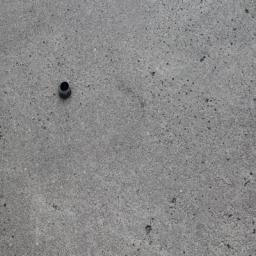FOD: (54, 80, 75, 102)
